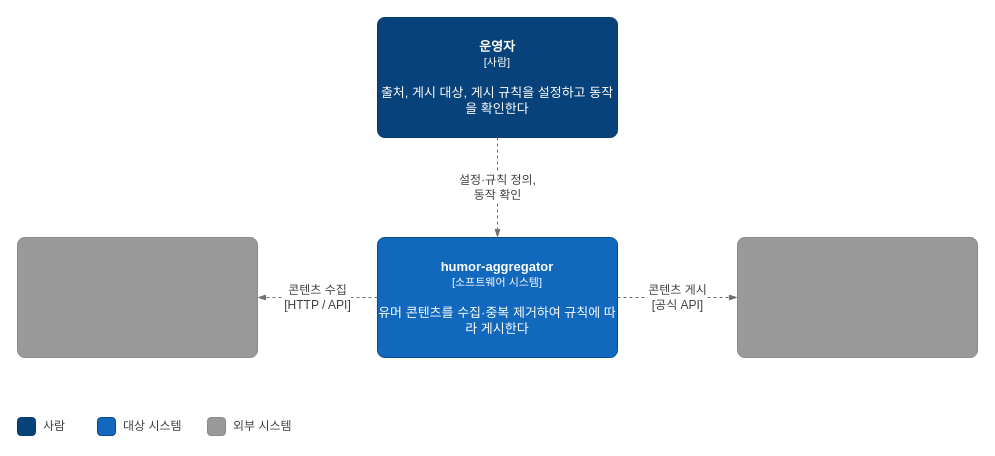
Image size: 995x456. Some labels were removed from this diagram. Here are the shapes that lost their labels. From the top down, the centre of each, then its label:
At point 137,297: "유머 출처 사이트 [외부 시스템] 수집 대상 콘텐츠를 제공한다".
At point 857,297: "게시 대상 사이트 [외부 시스템] 공식 API로 콘텐츠를 게시할 수 있다".
